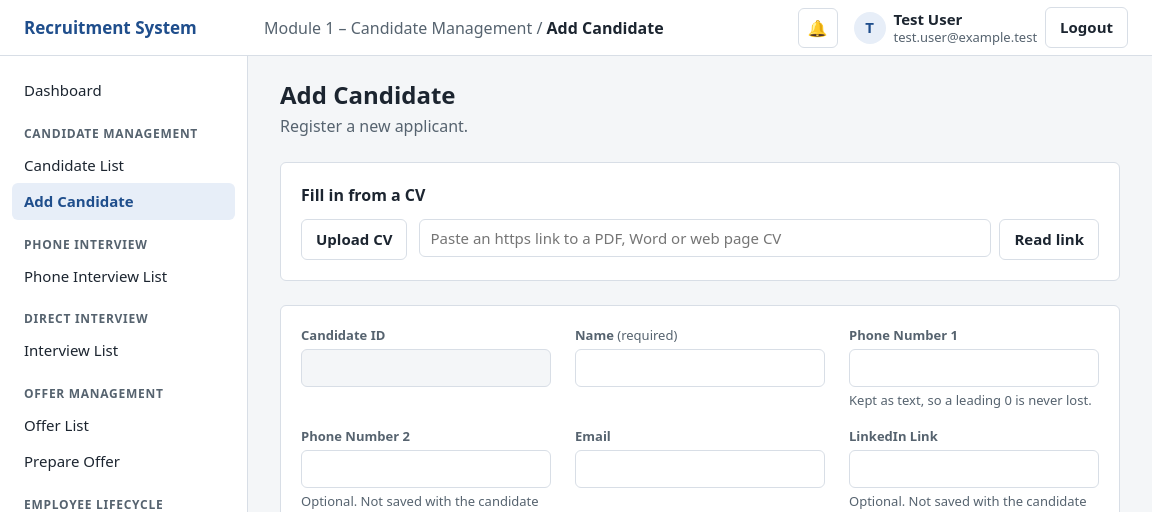
Test: reading a CV link with the Read link button › an address that is not https is refused before anything is sent
The width and height of the screenshot is (1152, 512).
Check: the file field labelled "Upload CV" is shown, box [301,219,408,260]
Type "http://cv.example.test/anusha.pdf" into the field named "CV link" at (706, 238), box [420,219,992,257]
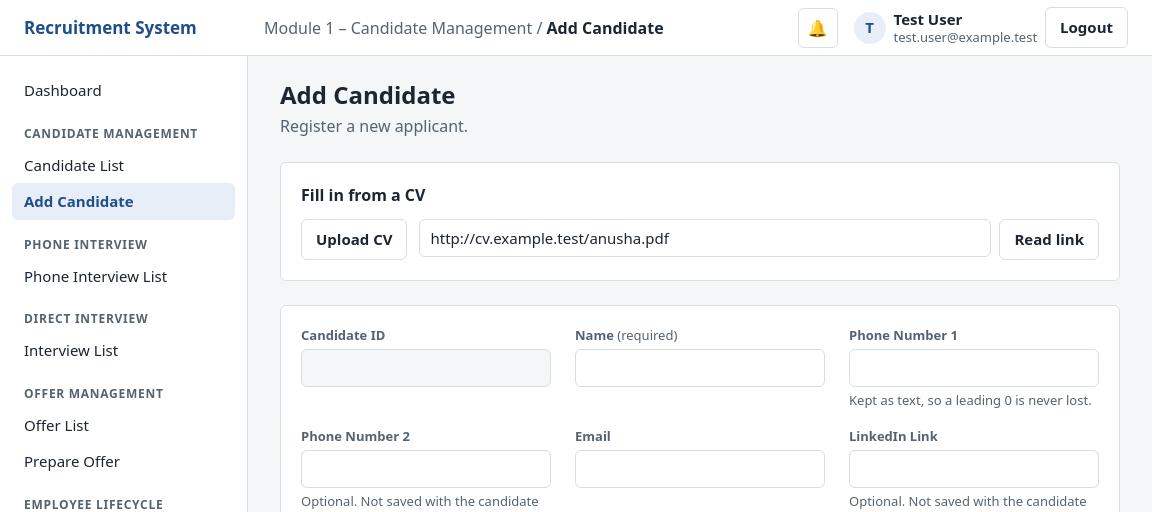
Click the button "Read link" at (1049, 239), box [1000,219,1099,260]
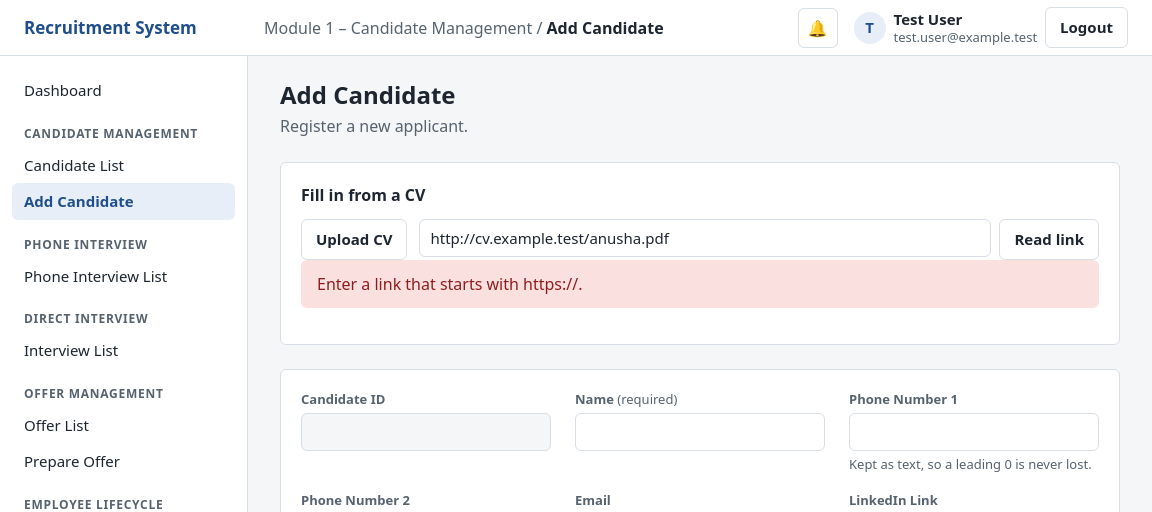
Check: the message shows "https://", box [317,272,582,294]
